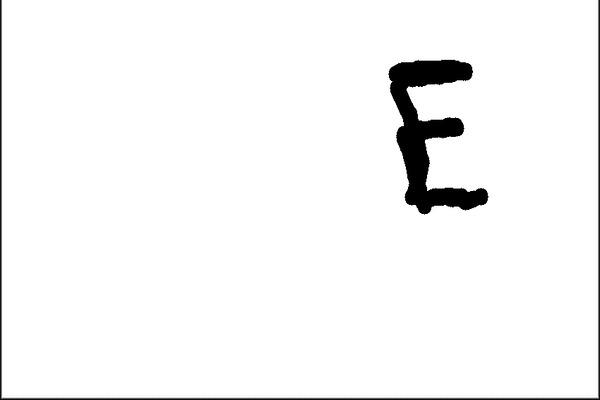E: (383, 54, 493, 218)
